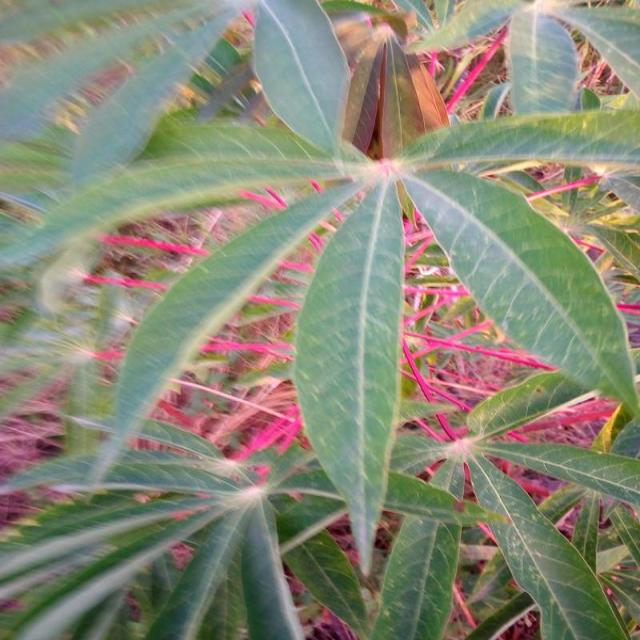cassava leaf: (0, 0, 638, 639), (401, 163, 638, 426), (293, 171, 405, 577)
